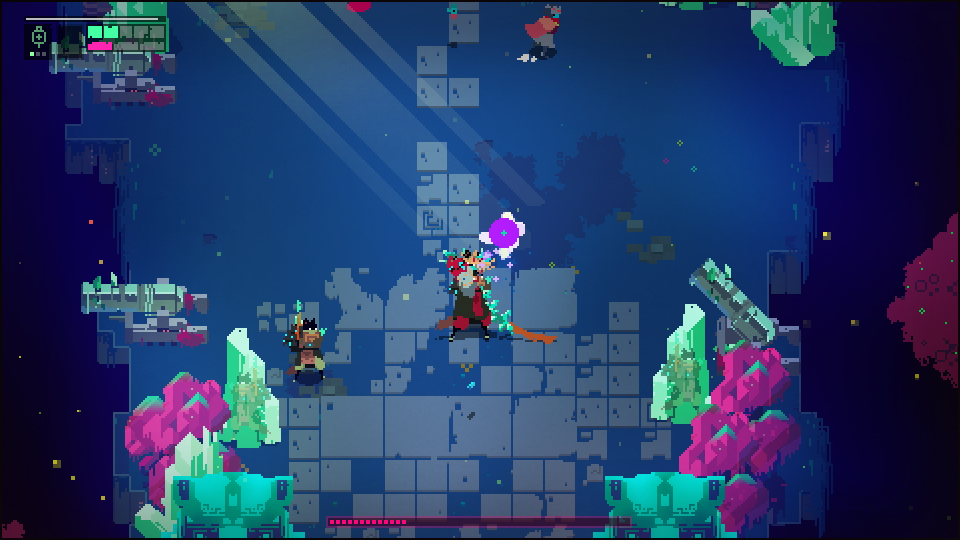hanged_man: (436, 241, 532, 346)
hanged_shot: (488, 214, 520, 250)
player: (522, 3, 563, 61)
